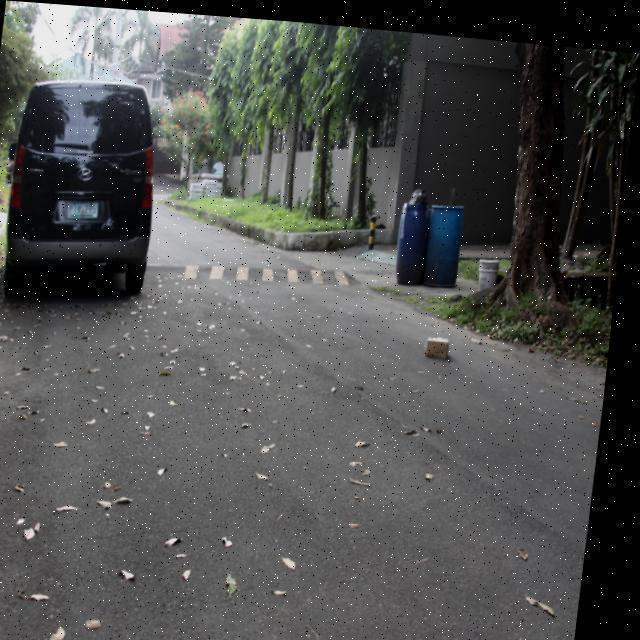Paper_Bag: (431, 328, 456, 351)
